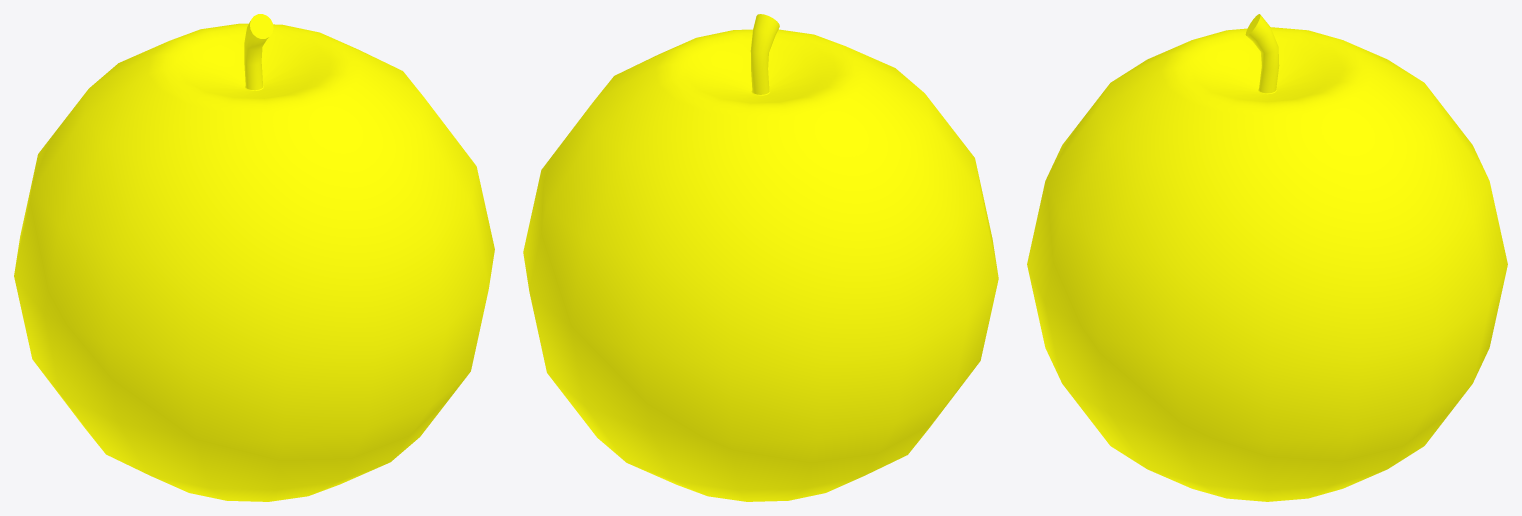
The model's file is SM_Apple01.glb.
3 views of the same model, side by side, from view 1: azimuth 30°, elevation 25°; view 2: azimuth 150°, elevation 25°; view 3: azimuth 270°, elevation 25° (orthographic).
Visible parts, largest first — view 1: SM_Apple01; view 2: SM_Apple01; view 3: SM_Apple01.
Boxes of the visible parts, x1,y1,x2,y2 form: SM_Apple01: (14,14,494,501); SM_Apple01: (523,14,998,501); SM_Apple01: (1027,14,1507,501).
Size of what is drawn, in the model's own units: 0.1487 by 0.1523 by 0.1487.
Materials: 1 (1 with a texture image).
